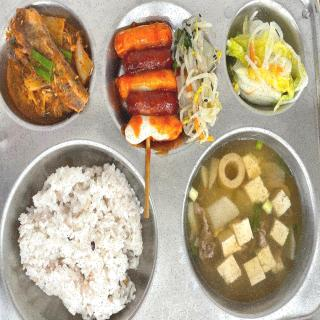Nasi: (19, 167, 142, 319)
